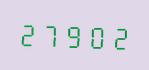nine: (62, 19, 83, 50)
seven: (40, 18, 61, 49)
two: (18, 18, 39, 48), (106, 21, 127, 51)
zero: (84, 20, 105, 51)
